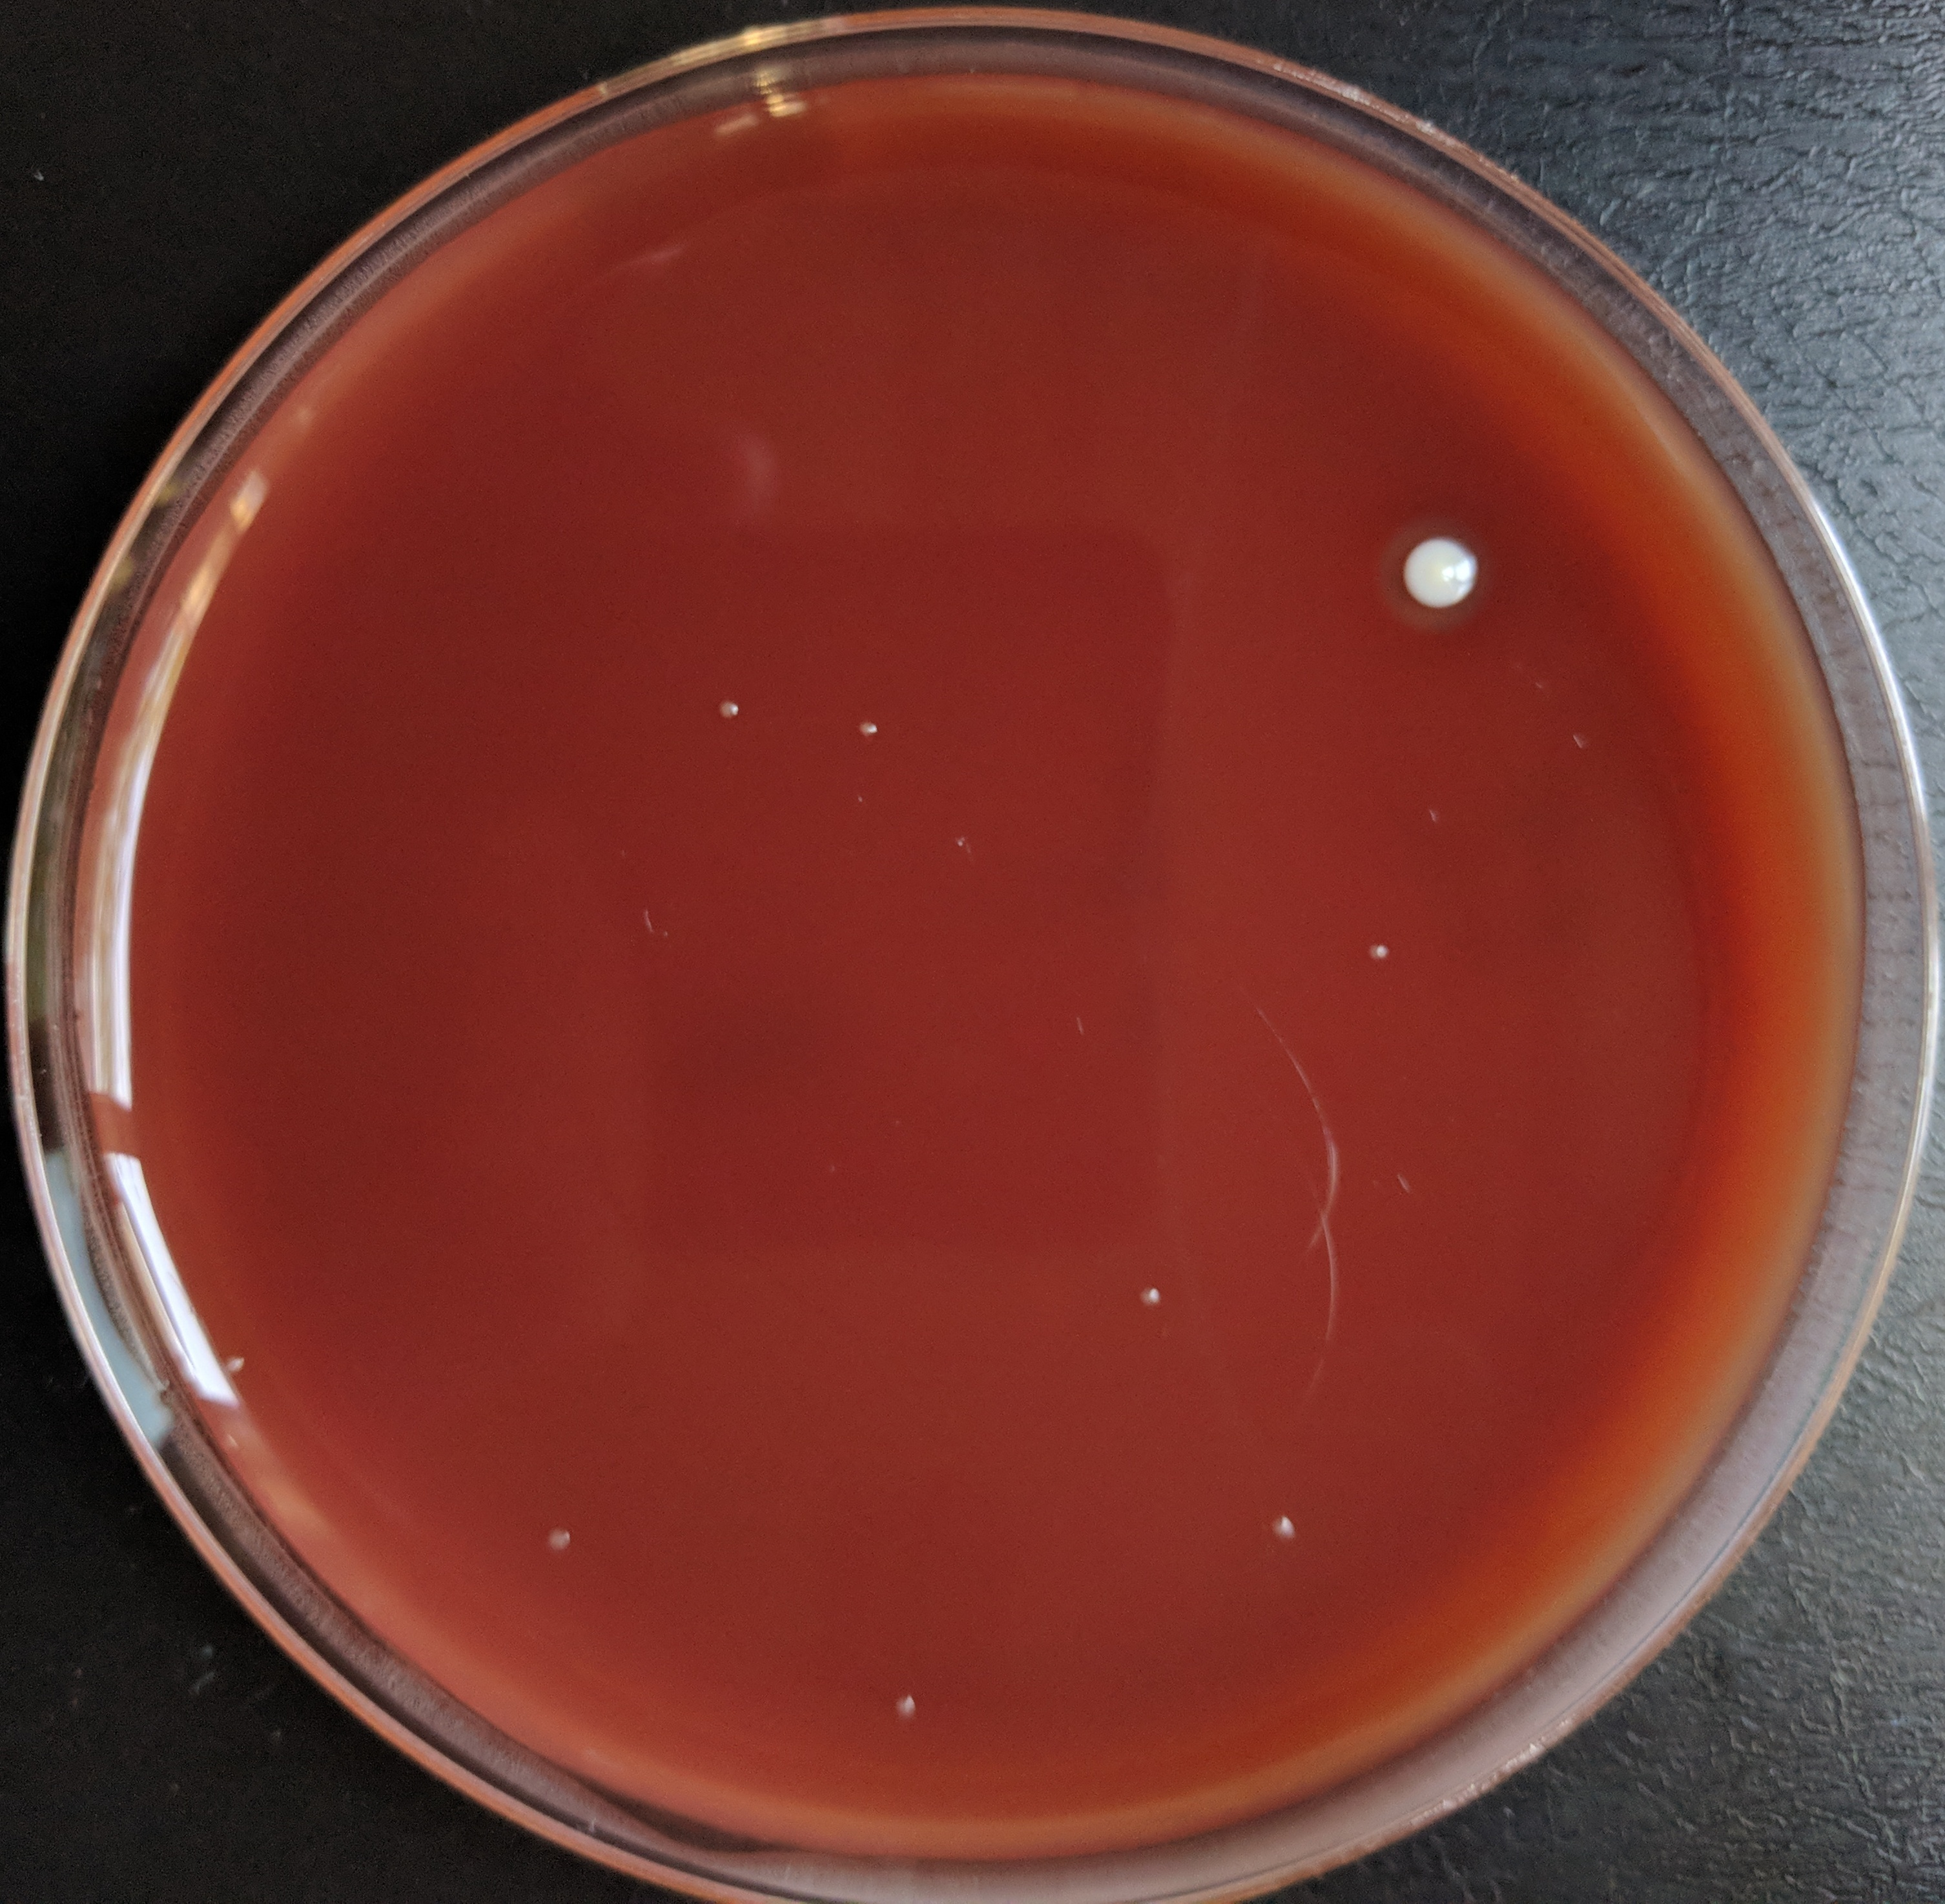sp07: (209, 1334, 256, 1386), (543, 1520, 576, 1559), (893, 1690, 925, 1724), (712, 697, 747, 727), (1272, 1512, 1303, 1541), (1137, 1283, 1169, 1309), (1368, 940, 1397, 962), (858, 720, 890, 741)
